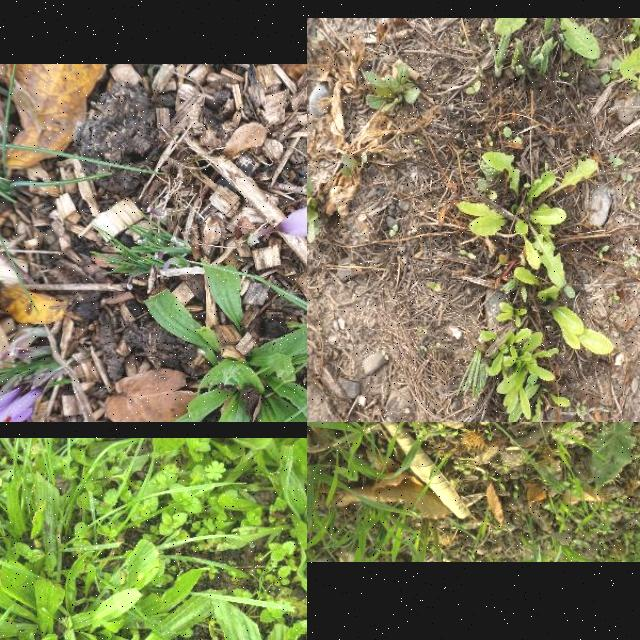flower: (3, 392, 41, 422), (276, 202, 307, 236)
